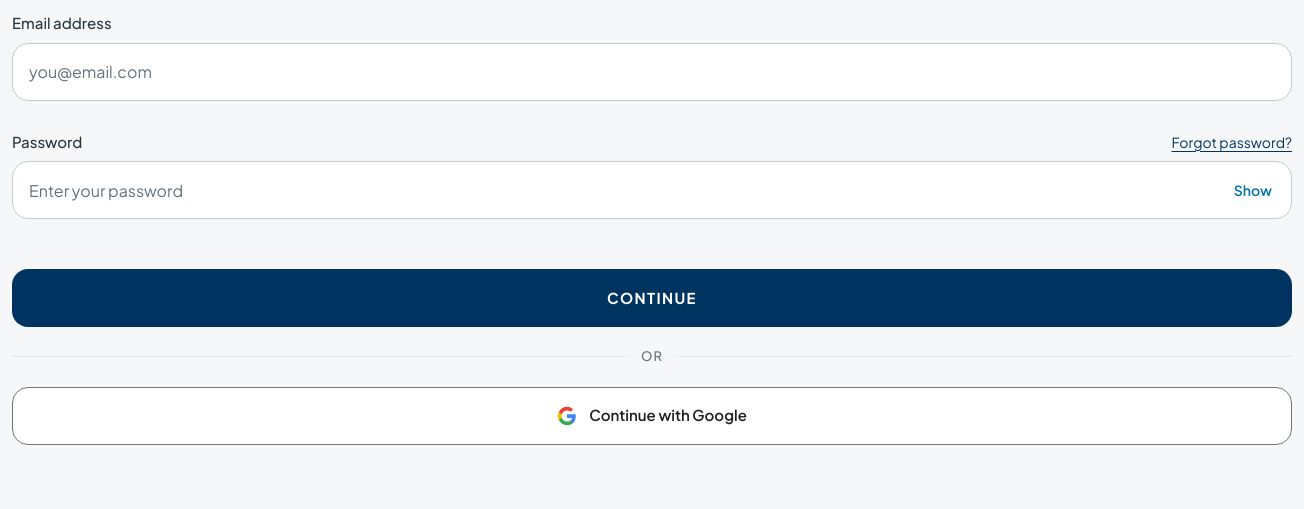
Test: LoginForm — password sign-in › keeps both fields after a failure so a typo can be corrected
The width and height of the screenshot is (1304, 509).
In the field labelled "Email address": (652, 72) left=12, top=42, right=1292, bottom=100, type "shopper@example.com"
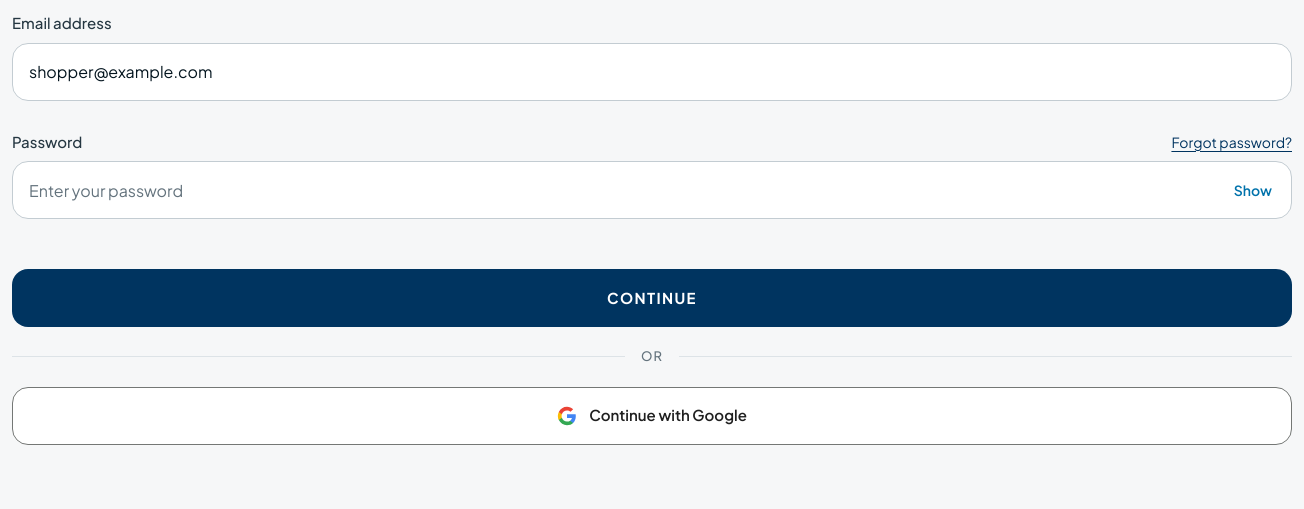
In the password field labelled "Password": (652, 190) left=12, top=161, right=1292, bottom=219, type "correct-horse-1"
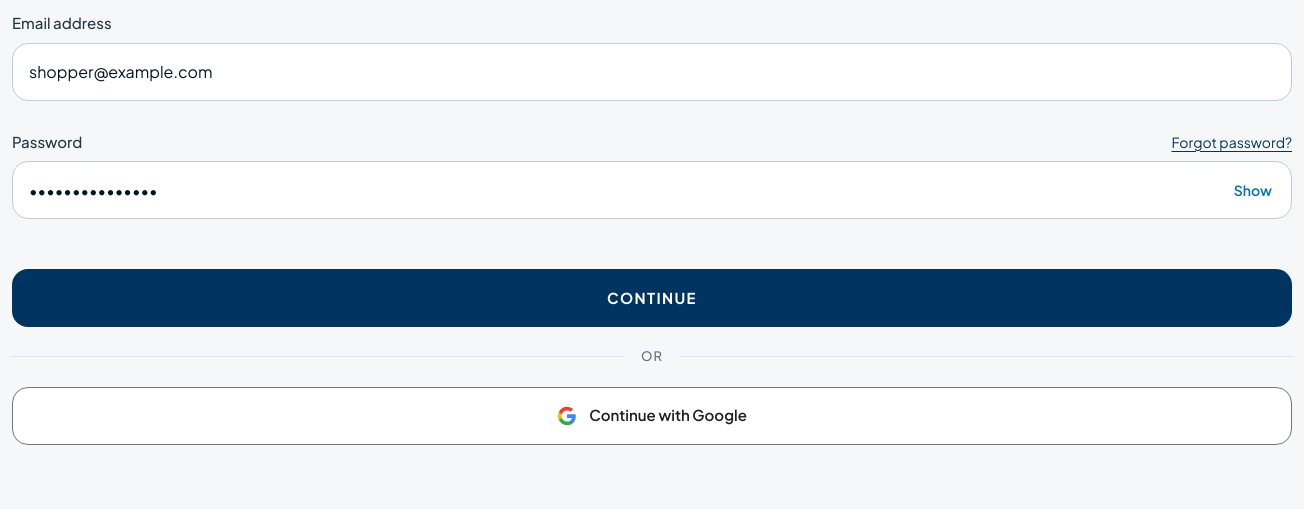
Click the button "Continue": (652, 298) left=12, top=269, right=1292, bottom=327
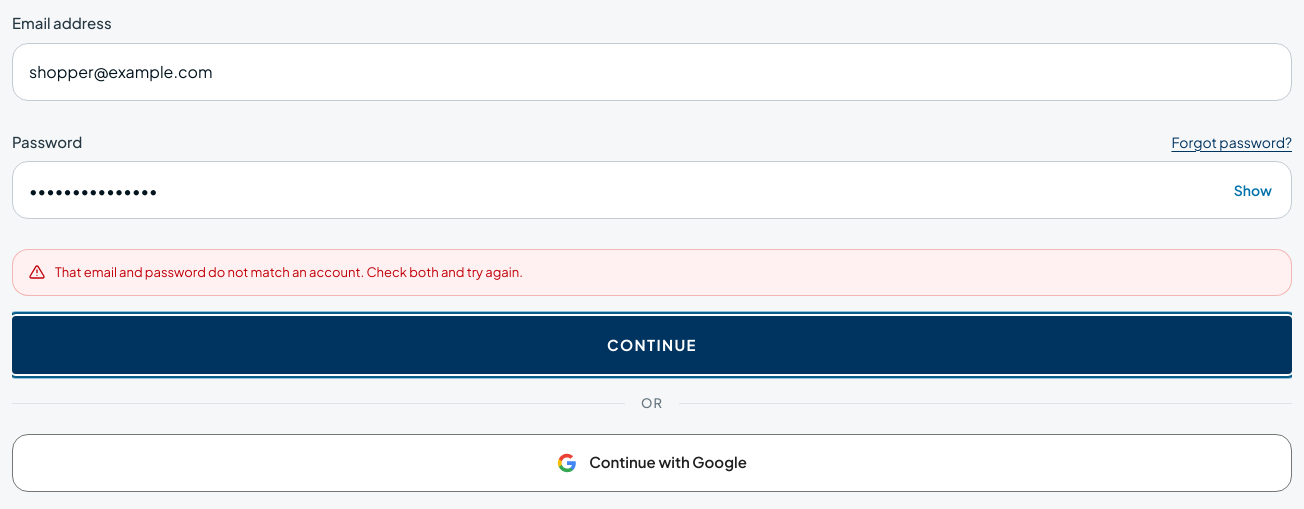
Expected: the message shows "do not match", left=55, top=264, right=523, bottom=280
